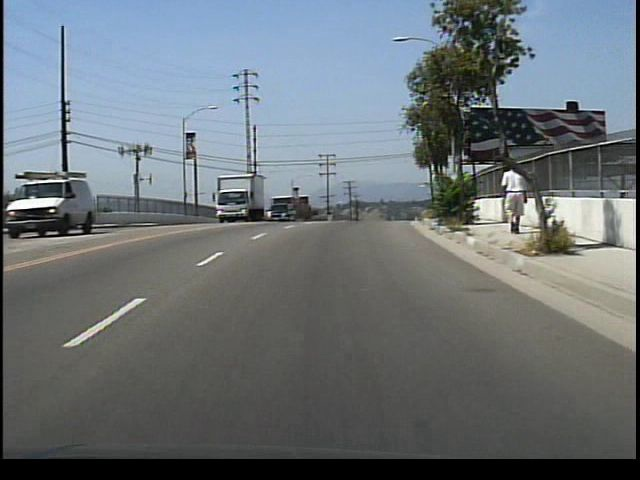person: (499, 171, 529, 238)
